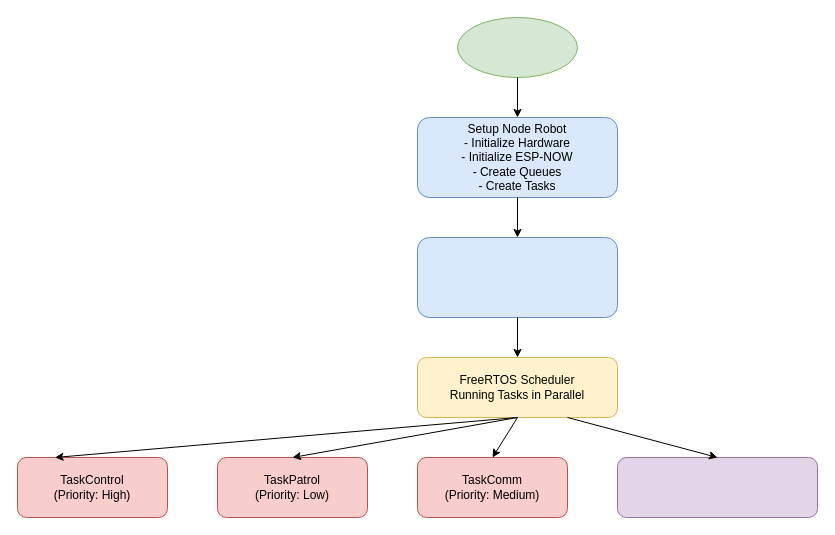
The diagram is 835 pixels wide and 535 high, and some of its shapes have lost their labels. The box of each missing label's shape, as (x1, y1, x2, y2) in pixels:
Gateway Loop - Check MQTT Connection - Process MQTT Messages: (616, 456, 818, 518)
Setup Node Gateway - Connect WiFi - Initialize ESP-NOW - Connect MQTT: (416, 236, 618, 318)
Start: (456, 16, 578, 78)
